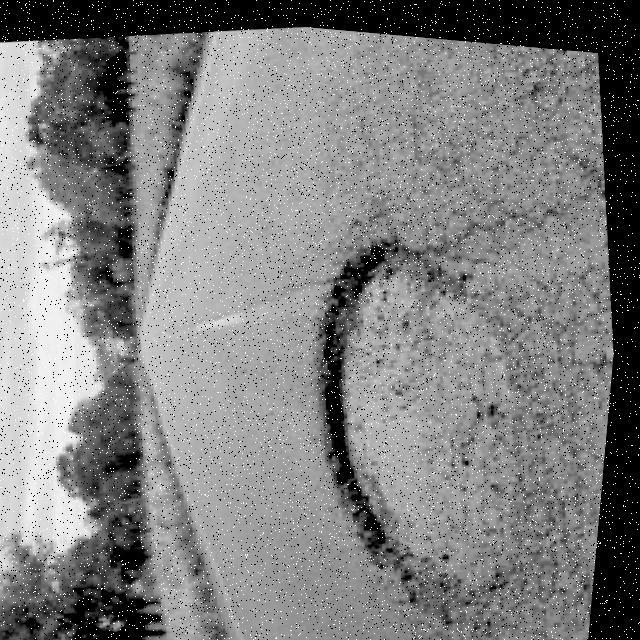pothole: (277, 210, 574, 640)
